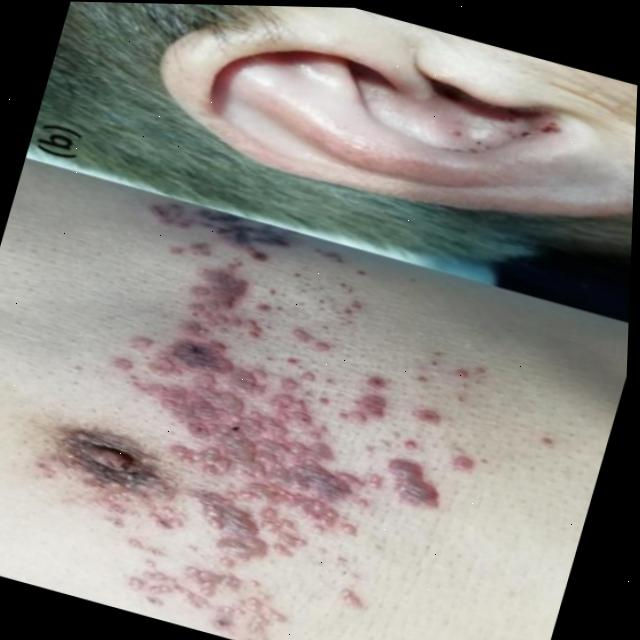Shingles: (47, 198, 526, 640)
